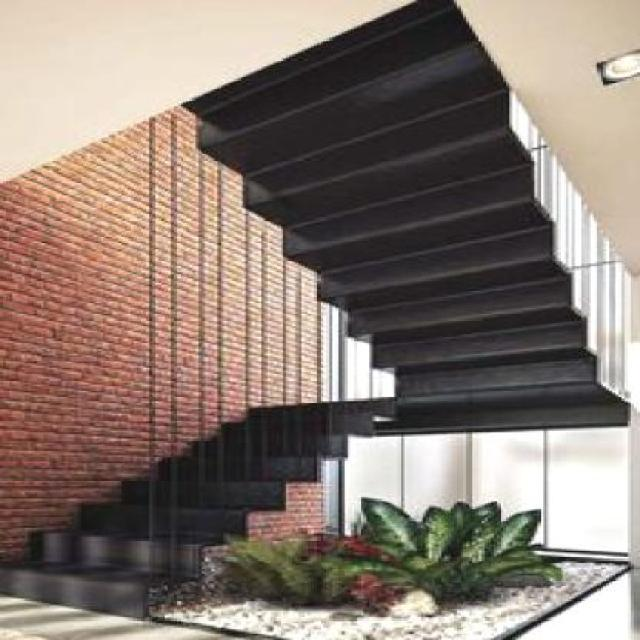stair: (3, 340, 402, 620)
